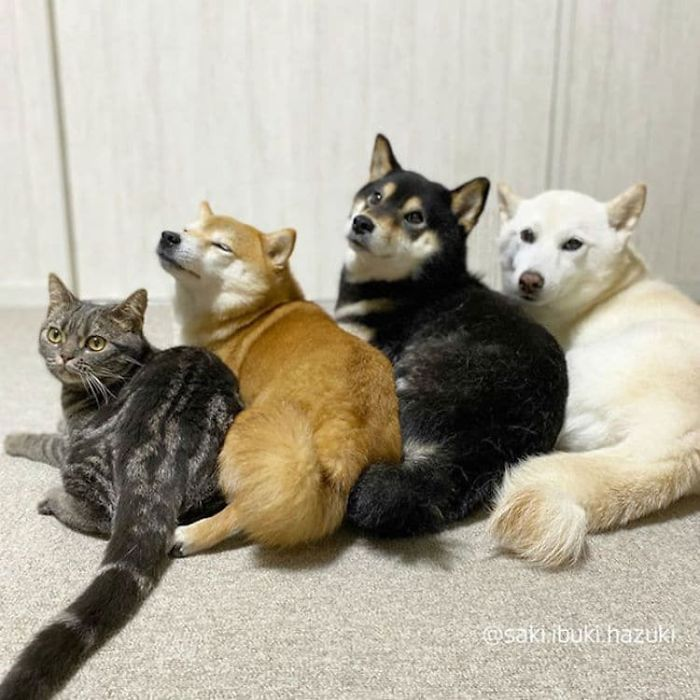anjing: (512, 133, 691, 596), (326, 131, 510, 565), (148, 181, 313, 343)
kucing: (7, 277, 214, 569)
